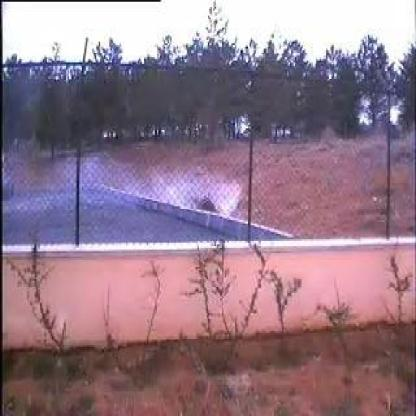-: (48, 149, 241, 241)
